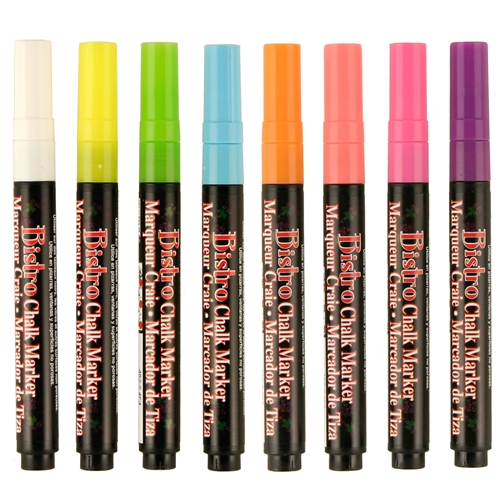Nonrec_Other: (313, 42, 373, 472), (254, 40, 311, 473), (383, 41, 438, 471), (198, 39, 252, 473), (442, 35, 495, 473), (9, 30, 59, 476), (137, 35, 184, 477), (73, 32, 119, 472)
